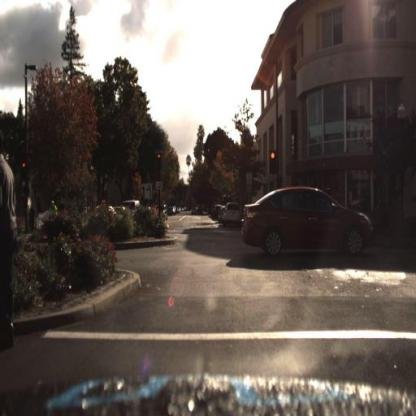biker: (45, 198, 62, 219), (48, 199, 58, 230)
car: (244, 182, 377, 264), (228, 201, 244, 229), (160, 205, 170, 220)
pedestrian: (1, 130, 19, 350)
trafficLight: (21, 157, 28, 177)
trafficLight-Red: (155, 151, 163, 177), (269, 150, 277, 176), (156, 145, 163, 166)
